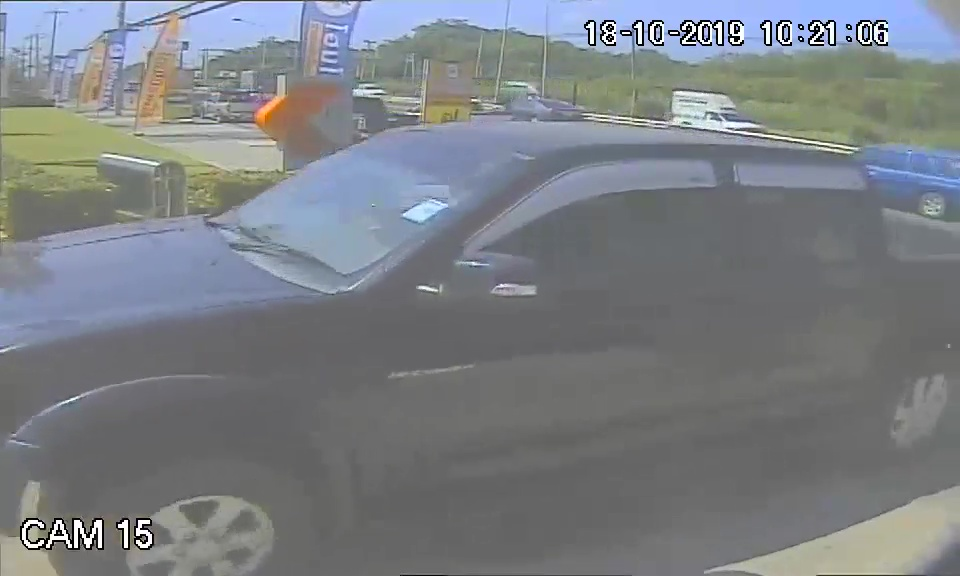pickup: (8, 115, 960, 538)
